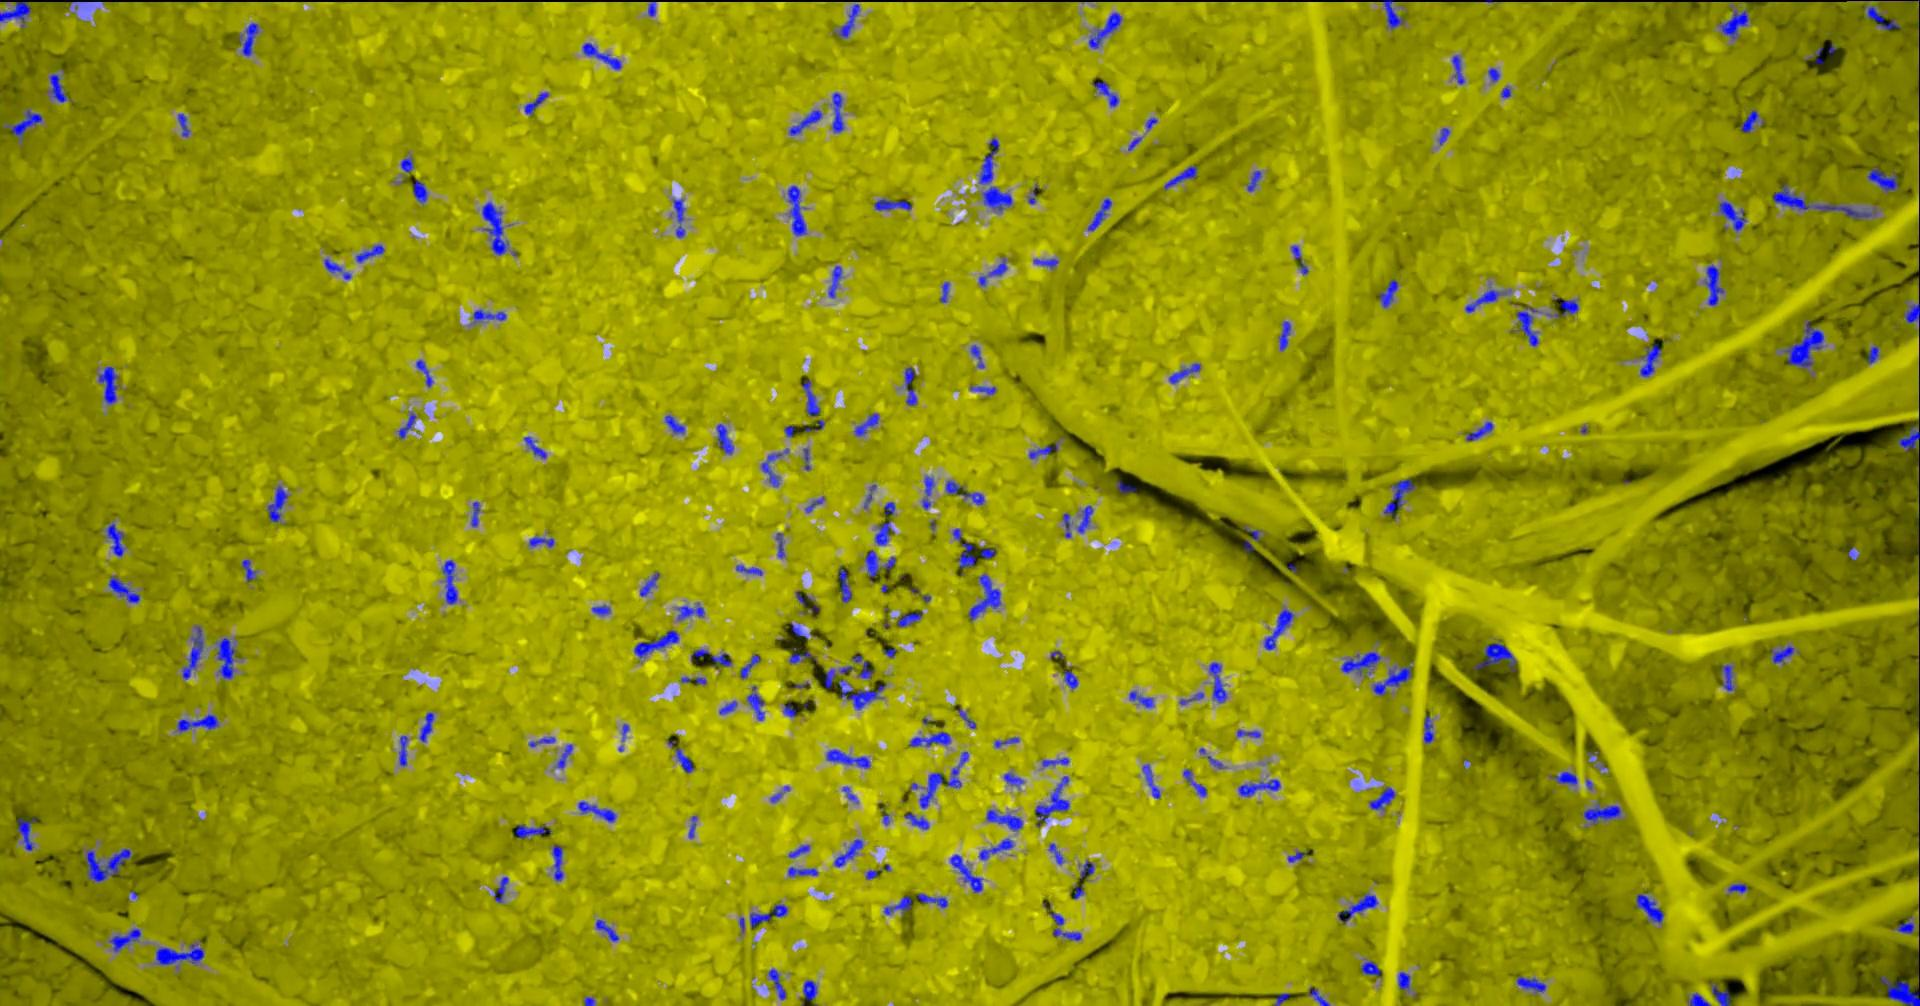ant: (1771, 183, 1876, 218), (919, 751, 968, 808), (1779, 320, 1823, 368), (1034, 775, 1069, 826), (85, 848, 130, 882), (481, 202, 508, 255), (968, 574, 999, 619), (838, 680, 886, 709), (1043, 902, 1079, 940), (1473, 639, 1516, 671), (1371, 661, 1411, 695), (1383, 478, 1415, 518), (632, 630, 678, 658), (949, 854, 982, 892), (1088, 11, 1121, 48), (1337, 893, 1377, 923), (1263, 608, 1293, 649), (1879, 976, 1919, 1005), (182, 626, 202, 680), (155, 942, 203, 964), (1512, 305, 1538, 345), (582, 42, 620, 69), (978, 137, 999, 184), (8, 109, 41, 138), (787, 185, 806, 235), (1464, 290, 1505, 312), (1340, 652, 1380, 674), (945, 480, 983, 504), (215, 636, 236, 678), (1863, 5, 1898, 30), (749, 904, 787, 927), (978, 257, 1007, 286), (1718, 201, 1746, 231), (1636, 893, 1663, 923), (107, 575, 138, 602), (1583, 801, 1620, 824), (789, 109, 822, 135), (577, 800, 615, 822), (1719, 10, 1749, 38), (833, 838, 862, 866), (1164, 165, 1197, 189), (1865, 166, 1898, 191), (0, 0, 30, 25), (982, 185, 1012, 211), (1704, 264, 1723, 305), (825, 749, 869, 767), (1237, 779, 1280, 796), (1087, 198, 1111, 230), (267, 485, 287, 522), (985, 809, 1022, 829), (177, 714, 218, 732), (761, 452, 782, 486), (98, 366, 117, 404), (1896, 422, 1919, 453), (838, 3, 858, 38), (1208, 662, 1225, 702), (978, 838, 1013, 859), (237, 22, 258, 56), (442, 559, 457, 605), (17, 815, 37, 850), (109, 929, 140, 951), (1092, 80, 1117, 107), (1182, 768, 1206, 796), (1639, 343, 1660, 376), (801, 379, 819, 415), (745, 685, 763, 720), (1382, 0, 1403, 29), (105, 523, 124, 556), (1168, 363, 1199, 384), (909, 730, 950, 746), (1142, 763, 1159, 798), (957, 542, 975, 575), (524, 91, 549, 116), (1548, 298, 1578, 318), (324, 258, 350, 279), (50, 72, 69, 102), (853, 413, 877, 436), (1369, 788, 1394, 809), (1465, 420, 1493, 439), (883, 895, 910, 915), (523, 436, 546, 459), (852, 654, 874, 678), (514, 824, 551, 838), (716, 423, 733, 453), (863, 549, 879, 582), (768, 968, 785, 998), (672, 198, 684, 238), (356, 244, 383, 262), (1379, 279, 1397, 307), (596, 920, 618, 941), (639, 572, 659, 596), (739, 654, 759, 678), (1709, 981, 1730, 1005), (1516, 976, 1545, 992), (397, 412, 415, 438), (838, 565, 851, 602), (832, 91, 843, 132), (472, 309, 505, 323), (415, 359, 432, 387), (1029, 442, 1057, 459), (676, 602, 703, 619), (789, 647, 817, 663), (874, 521, 893, 545), (676, 748, 695, 772), (1128, 690, 1153, 708), (903, 812, 928, 829), (1291, 245, 1307, 274), (872, 198, 910, 210), (904, 367, 916, 405), (922, 475, 935, 509), (917, 893, 947, 907), (1740, 109, 1757, 132), (1077, 506, 1092, 532), (551, 845, 563, 880), (1307, 987, 1330, 1005), (828, 265, 841, 297), (419, 713, 433, 741), (956, 708, 975, 728), (493, 876, 508, 902), (1771, 645, 1793, 663), (1891, 916, 1912, 934), (1451, 55, 1464, 84), (1277, 321, 1290, 351), (556, 743, 571, 767), (664, 415, 684, 433), (1719, 664, 1733, 690), (1550, 771, 1576, 785), (411, 180, 427, 203), (1903, 304, 1919, 326), (1243, 528, 1258, 551), (970, 344, 984, 368), (897, 612, 921, 626), (241, 559, 257, 580), (710, 653, 731, 668), (397, 735, 408, 766), (1360, 960, 1380, 976), (528, 735, 555, 747), (787, 866, 817, 876), (1078, 860, 1095, 878), (177, 113, 189, 136), (735, 564, 761, 575), (1247, 170, 1261, 191), (1003, 772, 1023, 786), (789, 843, 809, 857), (1048, 843, 1062, 864), (803, 979, 817, 1000), (528, 536, 552, 547), (1178, 692, 1203, 704), (1115, 480, 1137, 493), (1063, 669, 1077, 688), (1688, 993, 1710, 1005), (1032, 258, 1058, 268), (795, 589, 811, 605), (719, 700, 737, 714), (1423, 715, 1432, 743), (1041, 757, 1069, 766), (1727, 883, 1749, 894), (994, 737, 1018, 747), (823, 669, 836, 688), (1288, 850, 1307, 862), (1397, 970, 1410, 989), (470, 500, 479, 526), (775, 532, 783, 558), (938, 281, 949, 302), (690, 649, 709, 661), (1062, 513, 1070, 537), (1867, 345, 1878, 363), (969, 386, 996, 394), (590, 605, 610, 615), (1437, 127, 1449, 144), (1272, 993, 1289, 1005), (681, 676, 705, 683), (1236, 729, 1260, 737), (400, 158, 413, 171), (783, 702, 796, 716), (803, 447, 810, 470), (688, 815, 696, 838), (1072, 883, 1083, 898), (1487, 67, 1498, 81), (883, 500, 894, 514), (980, 547, 996, 558), (648, 0, 655, 15)
